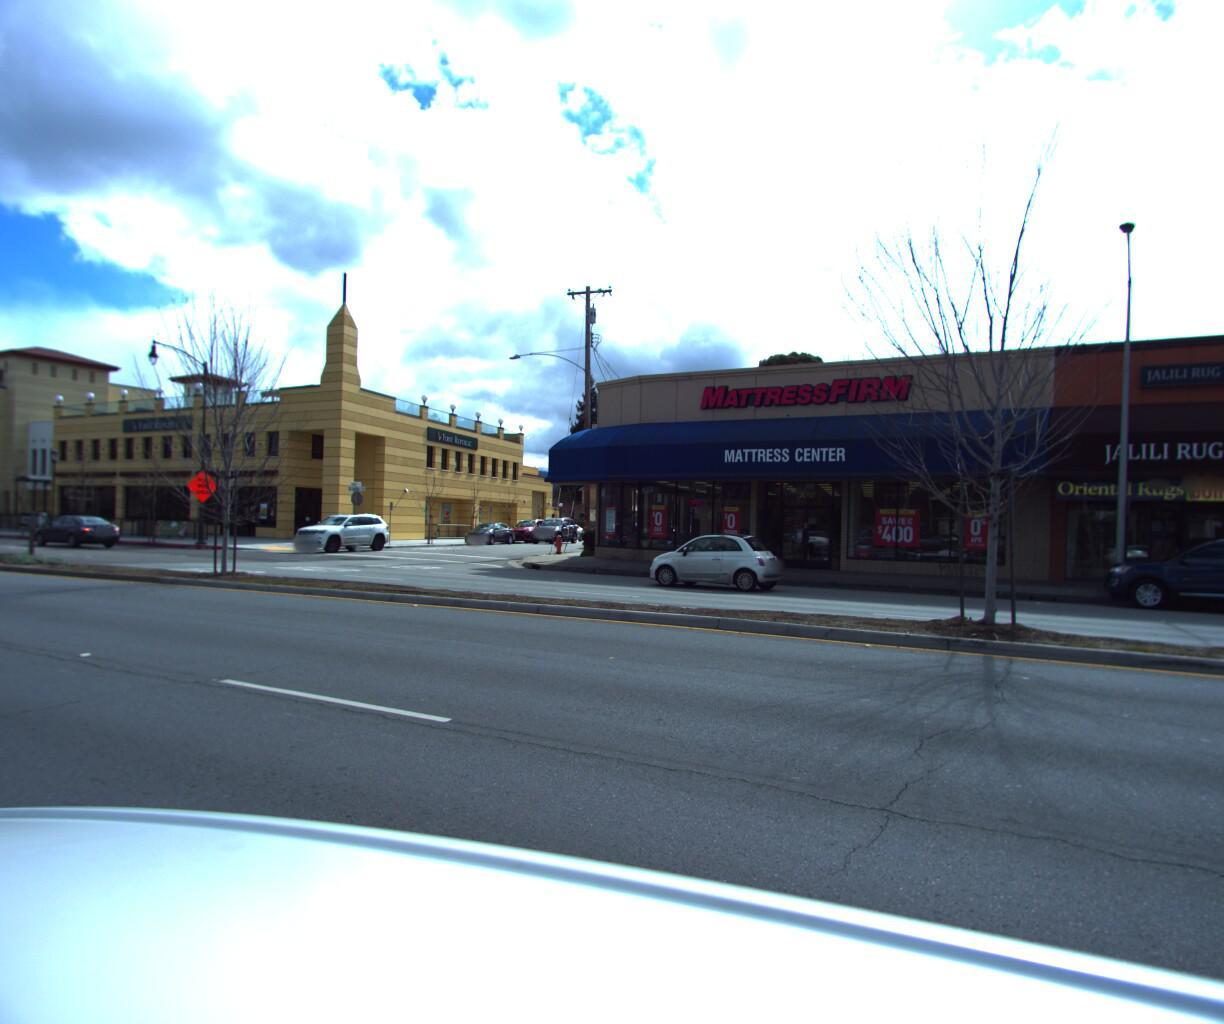car: (1088, 540, 1224, 633), (638, 535, 793, 600), (284, 516, 395, 561), (30, 521, 124, 558), (456, 529, 521, 554), (502, 530, 557, 552), (528, 531, 575, 555)
